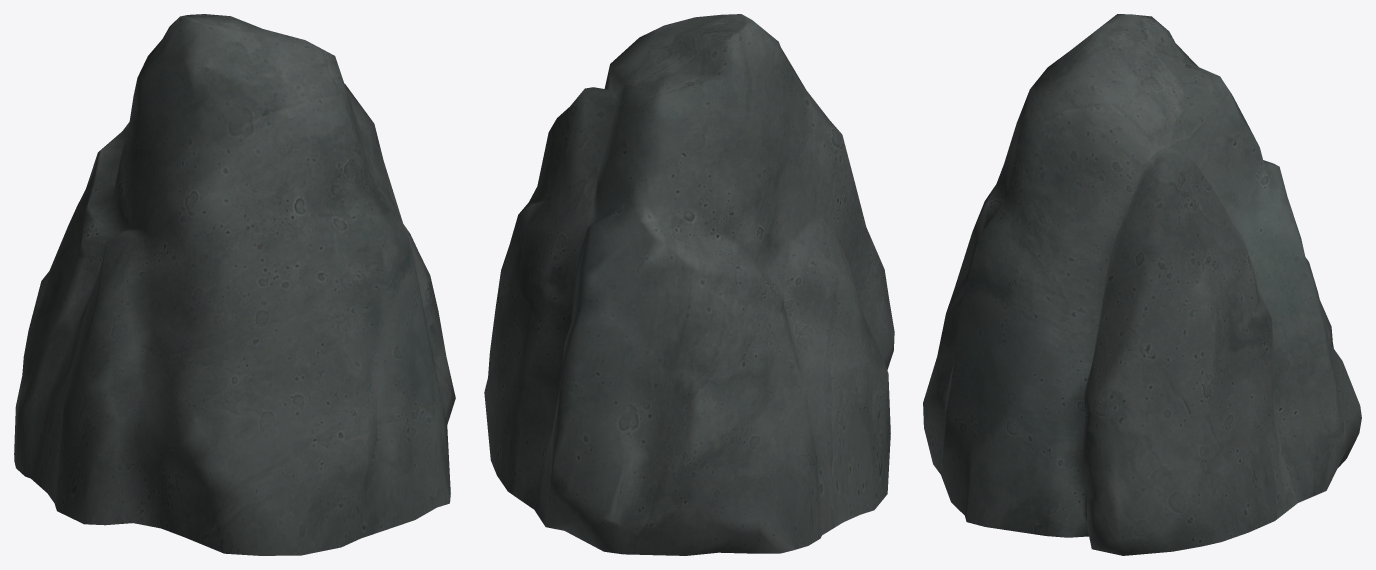
File: Cliff_Wall_Short04.fbx
3 views of the same model, side by side, from view 1: azimuth 30°, elevation 25°; view 2: azimuth 150°, elevation 25°; view 3: azimuth 270°, elevation 25° (orthographic). The views are drawn at different scales.
Parts seen in each view (by area): view 1: SM_CliffWall_Small04.mo; view 2: SM_CliffWall_Small04.mo; view 3: SM_CliffWall_Small04.mo.
Part boxes in pixels (<box>): SM_CliffWall_Small04.mo: <box>14,14,455,555</box>; SM_CliffWall_Small04.mo: <box>484,14,894,555</box>; SM_CliffWall_Small04.mo: <box>923,14,1361,555</box>.
Bounding box in the file's own units: 449 × 506 × 466.
1 material, 1 textured.
